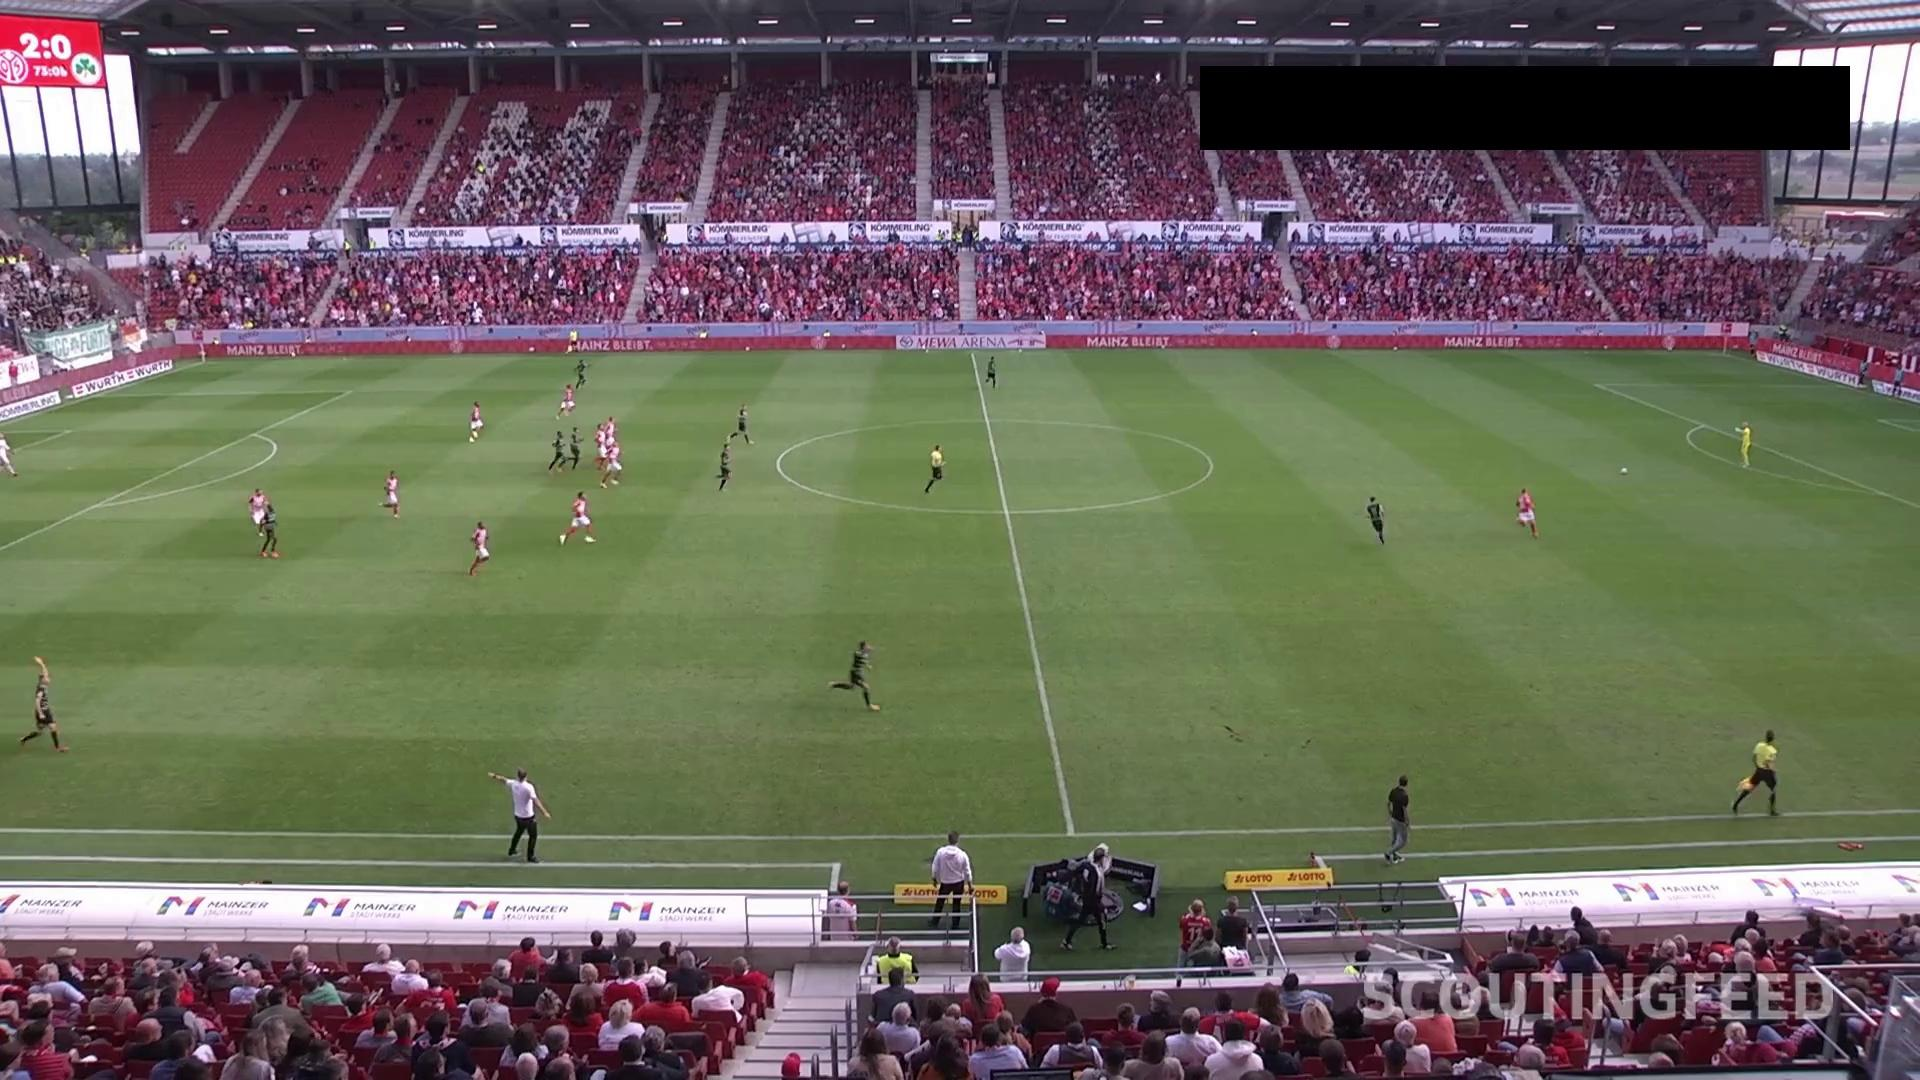Location-of-ball: (1596, 459, 1642, 481)
